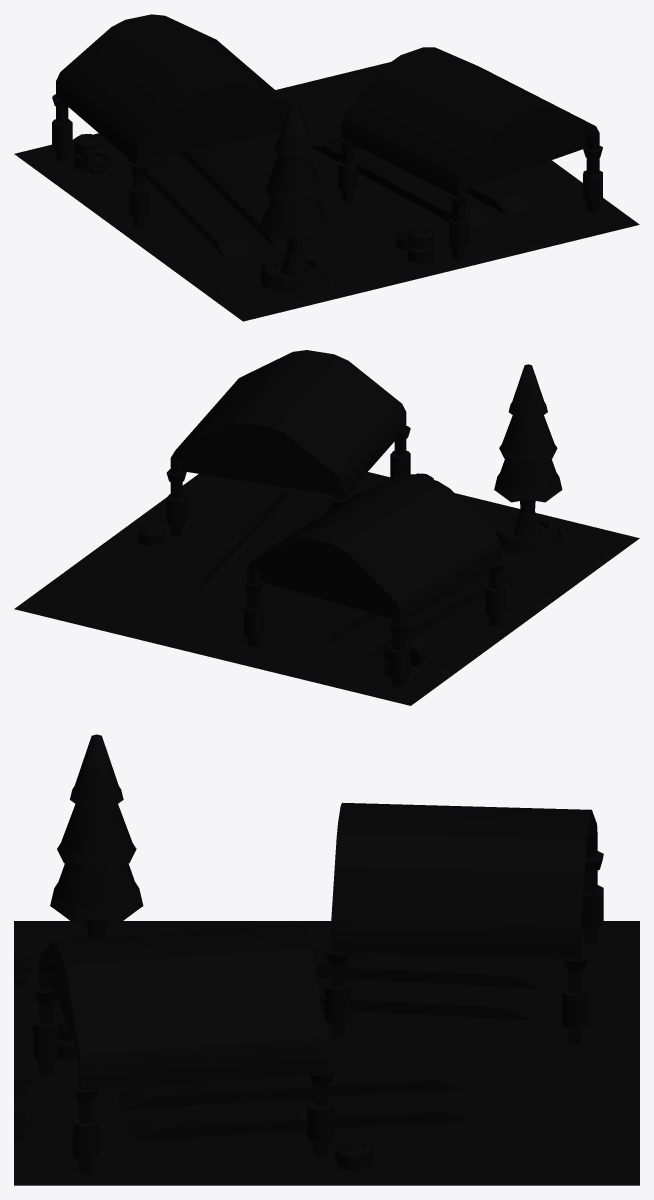
File: decoration-tents.glb
The picture shows the model from 3 angles, top to bottom: view 1: azimuth 30°, elevation 25°; view 2: azimuth 150°, elevation 25°; view 3: azimuth 270°, elevation 25°; orthographic projection. The views are drawn at different scales.
Visible parts, largest first — view 1: decoration-tents; view 2: decoration-tents; view 3: decoration-tents.
Boxes of the visible parts, x1,y1,x2,y2 form: decoration-tents: (14,14,639,321); decoration-tents: (14,350,639,705); decoration-tents: (14,734,639,1185).
Size of the model in its own units: 10 by 4.2 by 10.
Materials: 1 (1 with a texture image).
